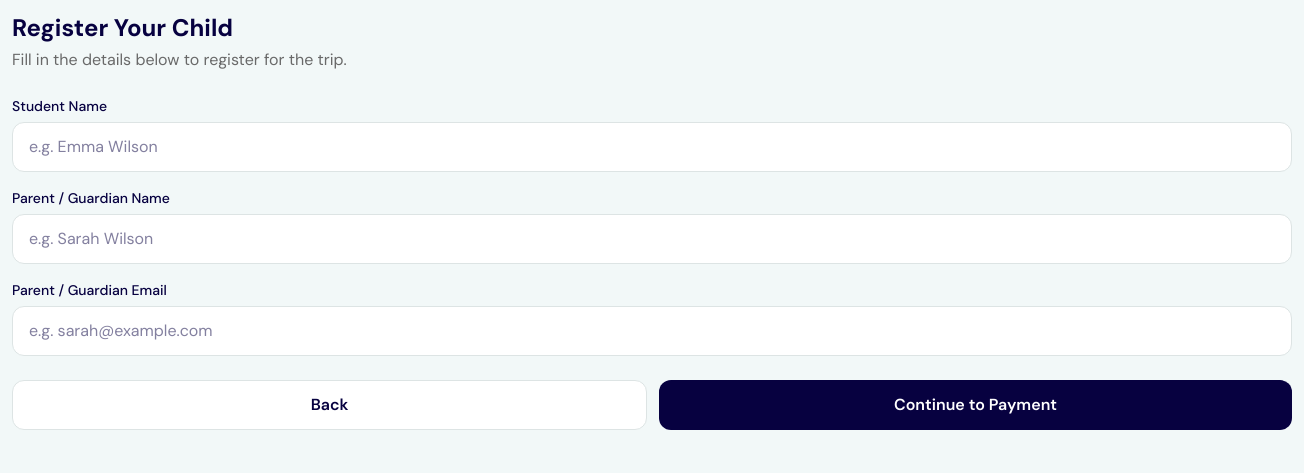
it: RegistrationForm validation › shows error for invalid email
Type "Emma Wilson" into the field labelled "Student Name".
click(652, 147); type("Emma Wilson")  # box [12, 122, 1292, 172]
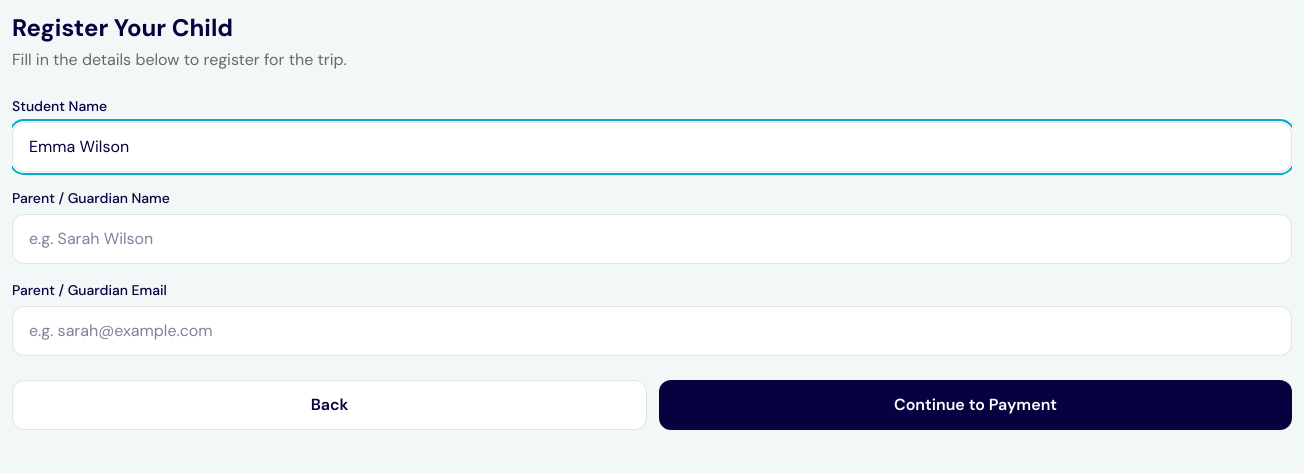
Type "Sarah Wilson" into the field labelled "Parent / Guardian Name".
click(652, 239); type("Sarah Wilson")  # box [12, 214, 1292, 264]
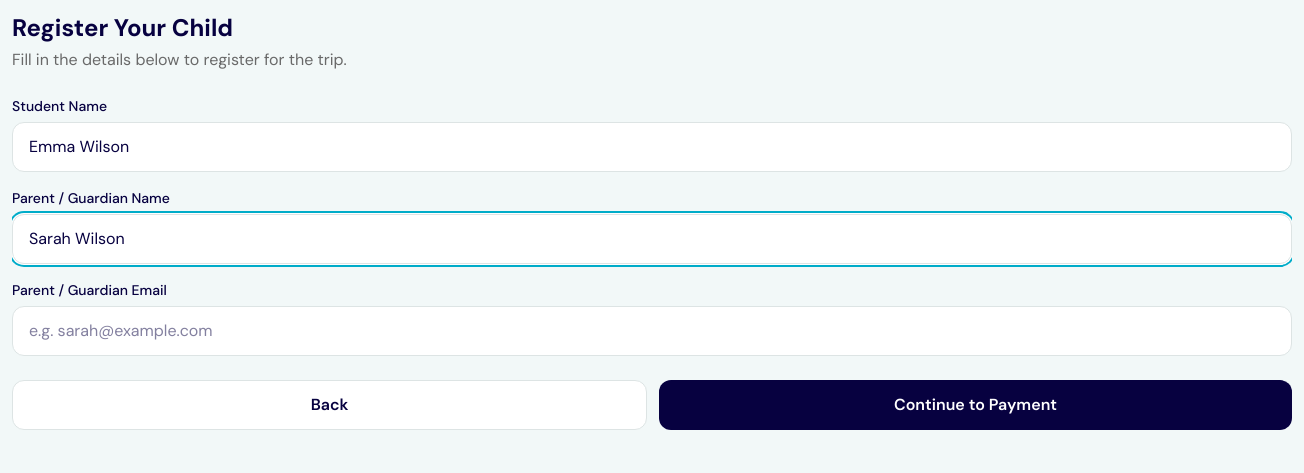
Type "notanemail" into the field labelled "Parent / Guardian Email".
click(652, 331); type("notanemail")  # box [12, 306, 1292, 356]
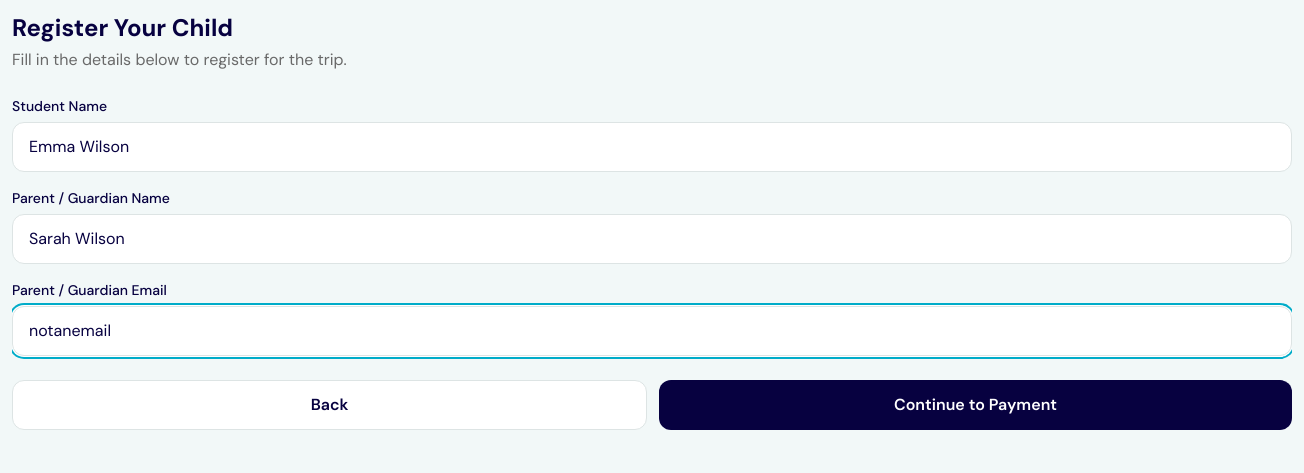
Click the button "Continue to Payment".
click(976, 405)  # box [659, 380, 1292, 430]
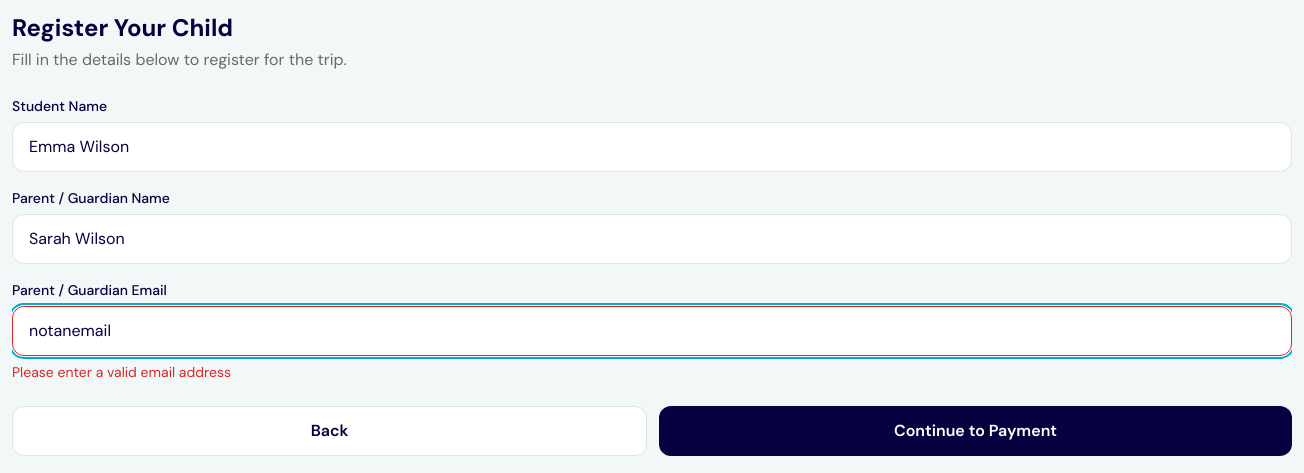
Expected: the text "Please enter a valid email address" is shown, [12, 363, 231, 381]
